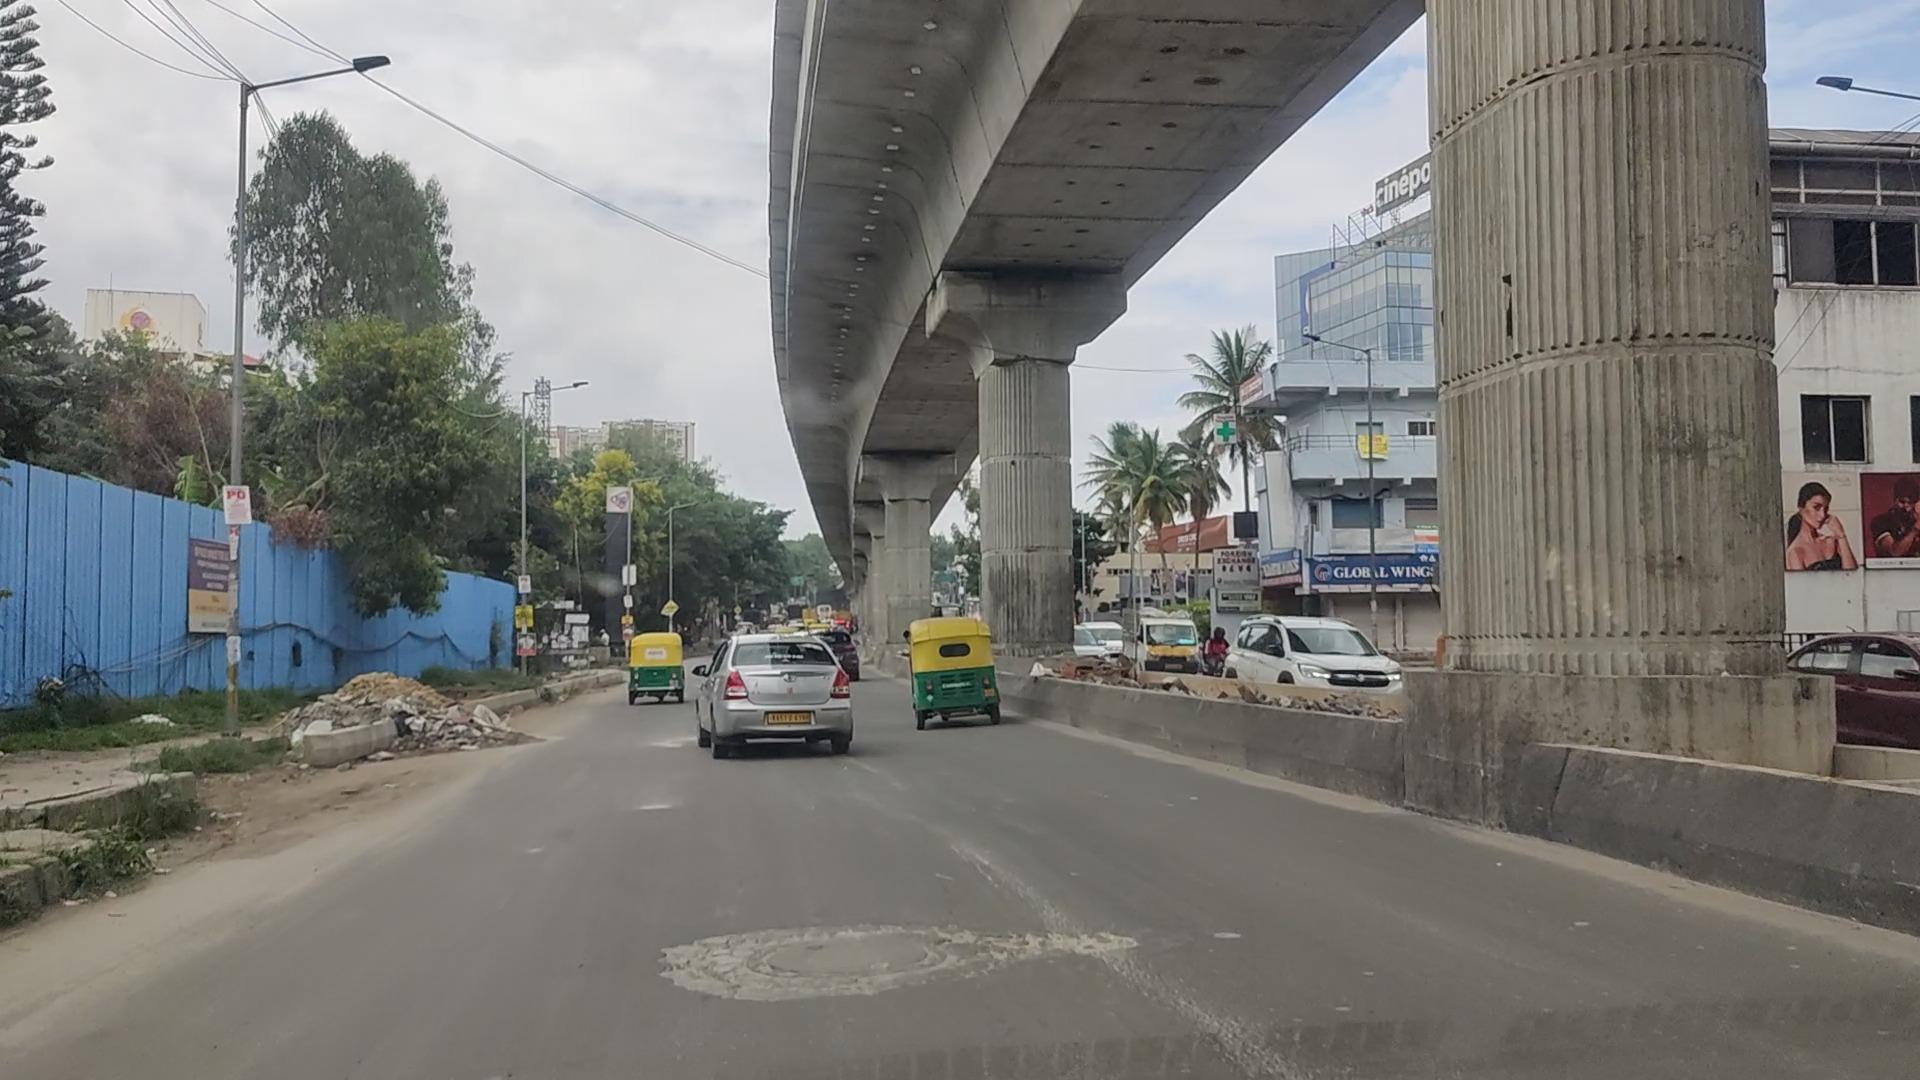LMV: (692, 628, 856, 761), (905, 618, 1000, 729), (624, 633, 688, 702)
RoadDamages: (642, 907, 1151, 1005)
